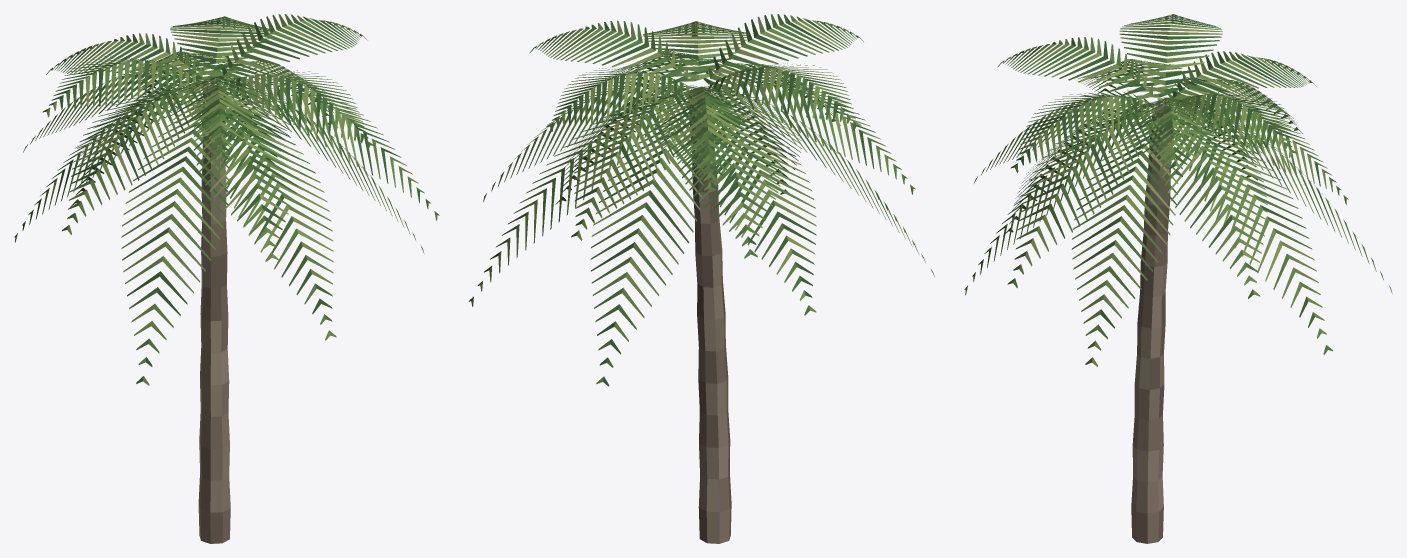
File: tree_palm.gltf
3 views of the same model, side by side, from view 1: azimuth 30°, elevation 25°; view 2: azimuth 150°, elevation 25°; view 3: azimuth 270°, elevation 25° (orthographic). The views are drawn at different scales.
Parts seen in each view (by area): view 1: Palm; view 2: Palm; view 3: Palm.
Part boxes in pixels (<box>): Palm: <box>14,14,439,543</box>; Palm: <box>468,14,934,543</box>; Palm: <box>964,14,1392,543</box>.
Bounding box in the file's own units: 7.19 × 9.38 × 7.65.
